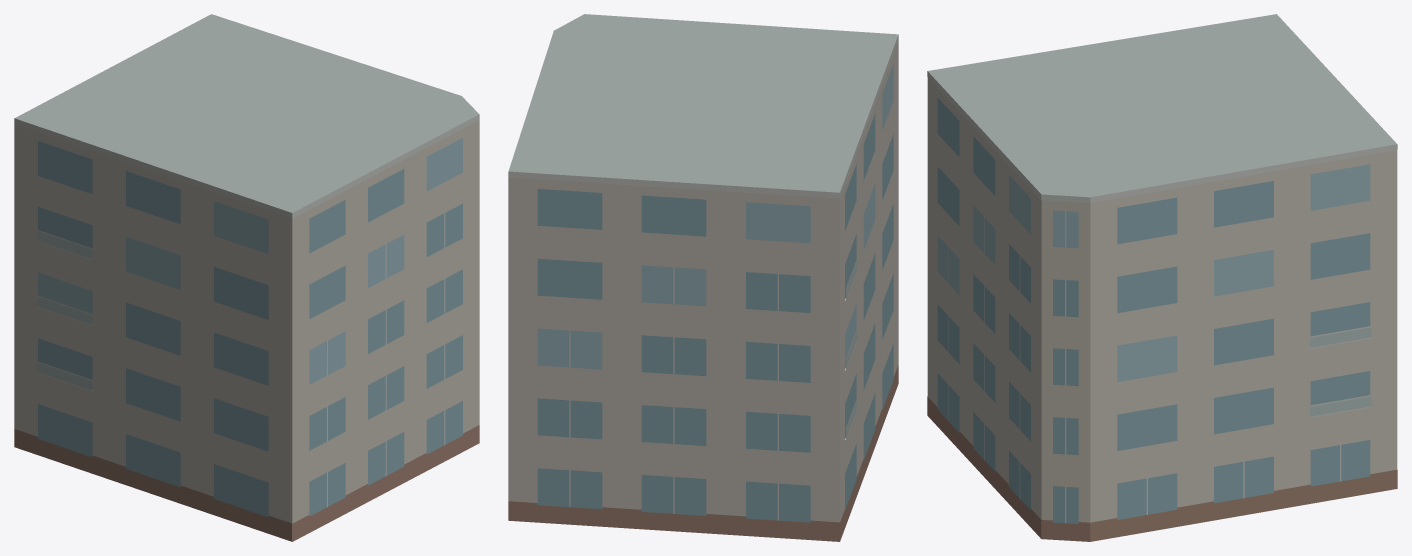
Rendered from survey-upis-32843025.glb.
3 renders of one model, left to right at view 1: azimuth 30°, elevation 25°; view 2: azimuth 150°, elevation 25°; view 3: azimuth 270°, elevation 25°, orthographic. The views are drawn at different scales.
Parts seen in each view (by area): view 1: survey-upis-32843025.tmp; view 2: survey-upis-32843025.tmp; view 3: survey-upis-32843025.tmp.
Boxes of the visible parts, x1=… form: survey-upis-32843025.tmp: x1=14, y1=14, x2=479, y2=541; survey-upis-32843025.tmp: x1=508, y1=14, x2=898, y2=541; survey-upis-32843025.tmp: x1=927, y1=14, x2=1397, y2=541.
Size of the model in its own units: 16.21 by 14.2 by 17.56.
